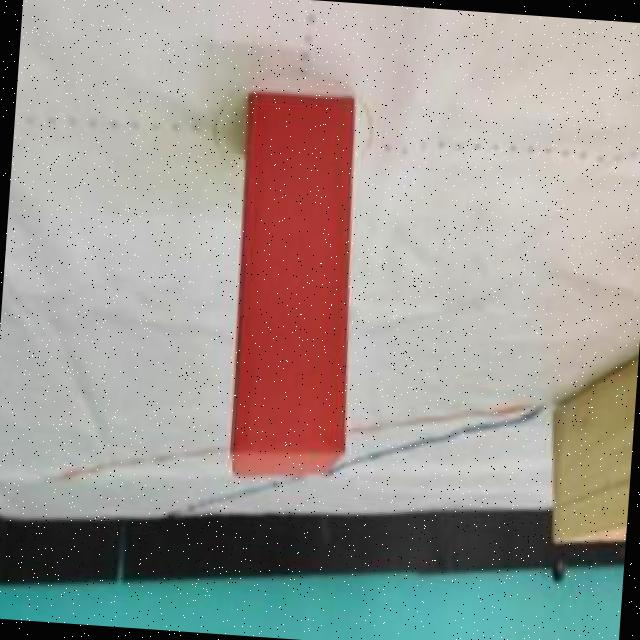redbox: (222, 90, 368, 484)
